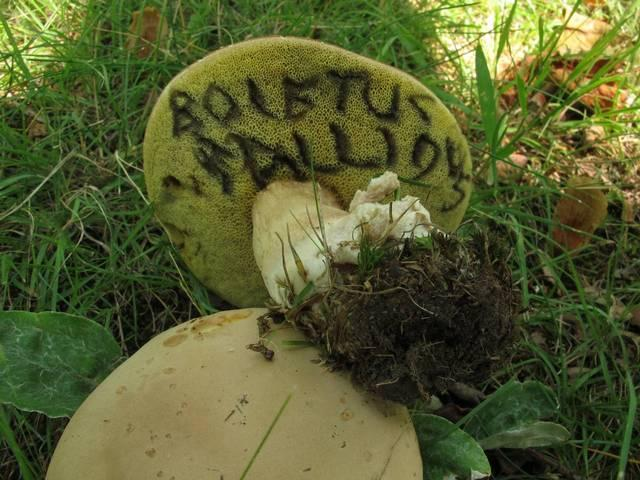edible_mushroom: (141, 34, 473, 309), (43, 305, 425, 479)
